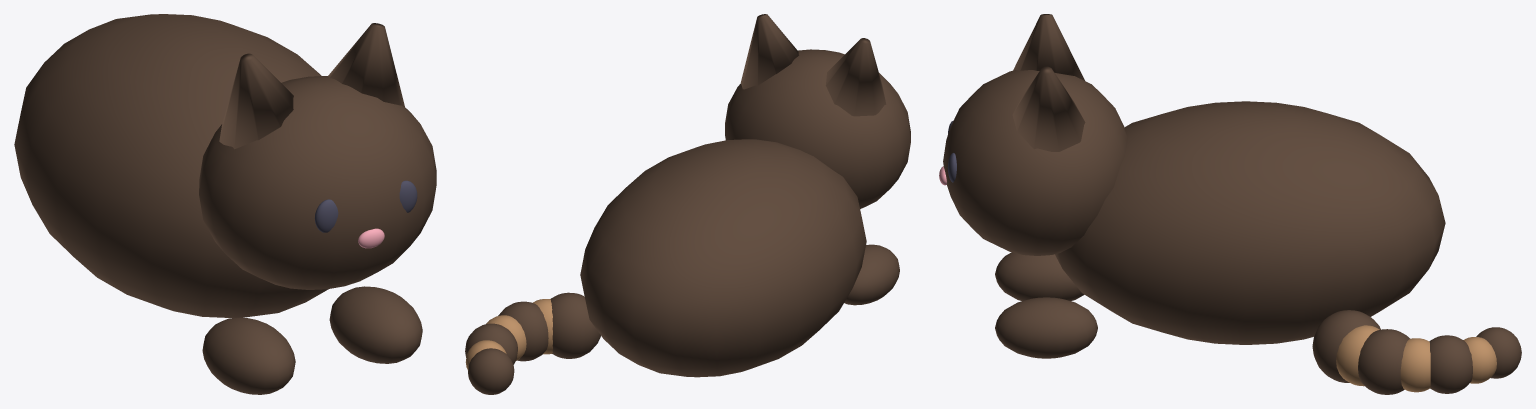
Rendered from cat.glb.
The picture shows the model from 3 angles, left to right: view 1: azimuth 30°, elevation 25°; view 2: azimuth 150°, elevation 25°; view 3: azimuth 270°, elevation 25°; orthographic projection. The views are drawn at different scales.
Parts seen in each view (by area): view 1: cat; view 2: cat; view 3: cat.
Boxes of the visible parts, x1,y1,x2,y2 form: cat: [14, 14, 436, 394]; cat: [465, 14, 910, 394]; cat: [939, 14, 1521, 394].
Size of the model in its own units: 0.3868 by 0.3507 by 0.6433.
